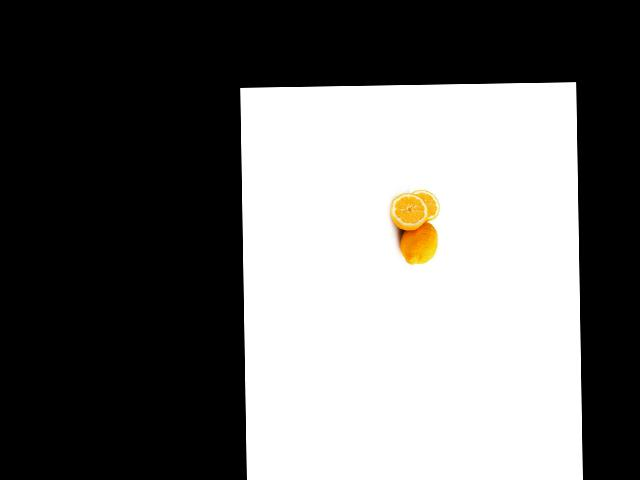lemon: (398, 221, 440, 267)
